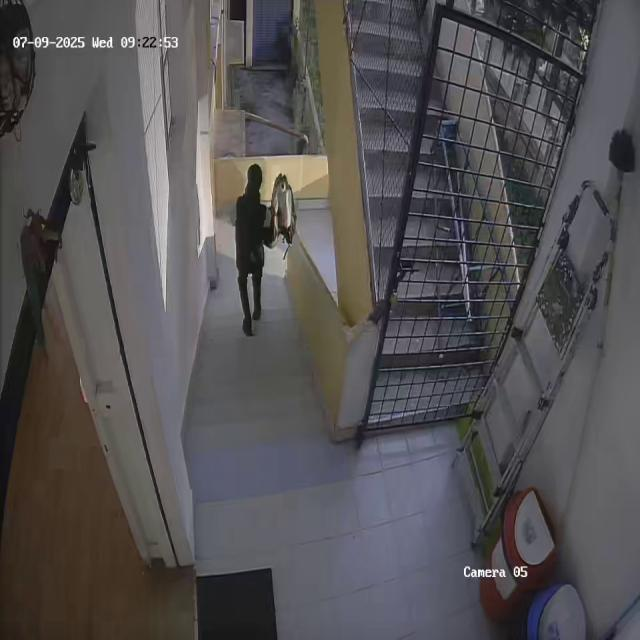person: (226, 162, 271, 334)
